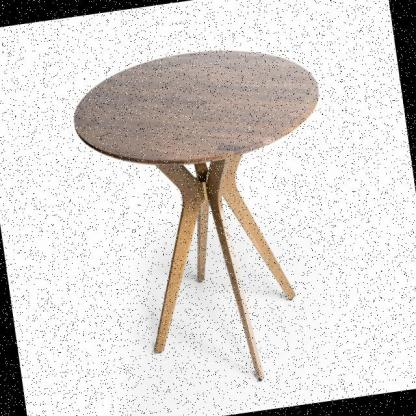Table: (37, 0, 387, 410)
